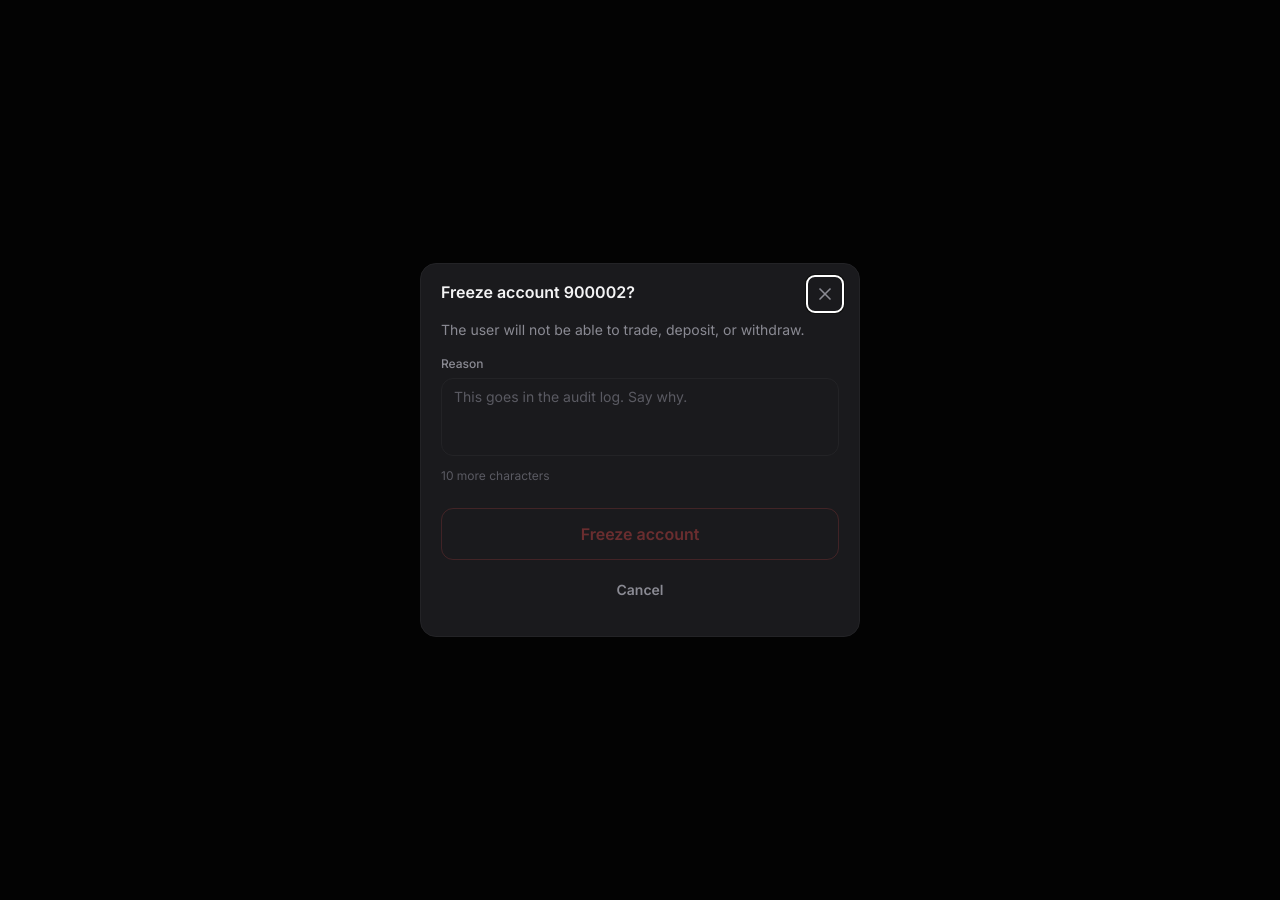
Test: ReasonDialog › blocks confirmation until a reason worth logging is written
Check: the button "Freeze account" is disabled, box [441, 508, 839, 560]
Type "too short" into the text box labelled "Reason". click: (640, 417)
box: [441, 378, 839, 456]
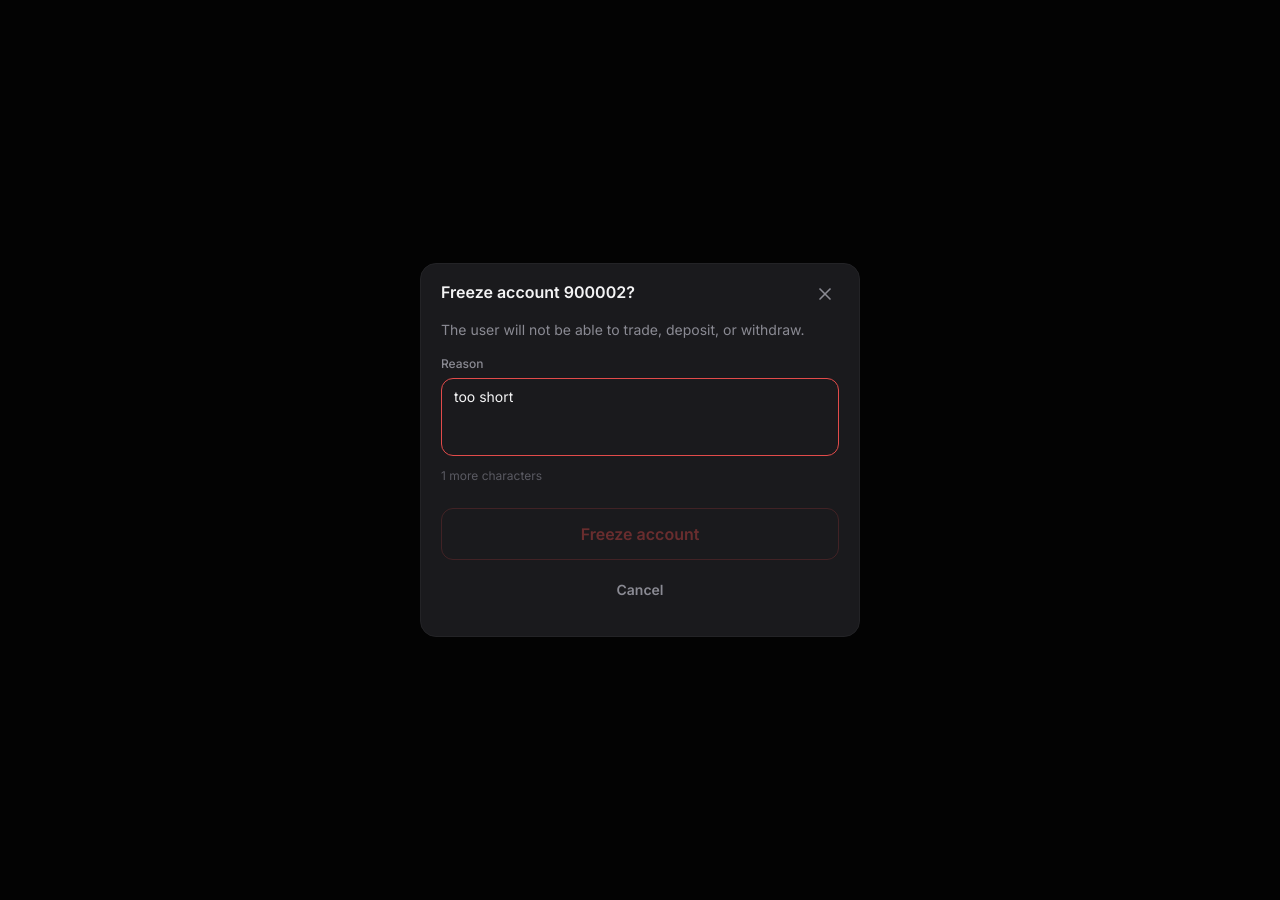
Check: the button "Freeze account" is disabled, box [441, 508, 839, 560]
Type " but now it is long enough" into the text box labelled "Reason". click: (640, 417)
box: [441, 378, 839, 456]
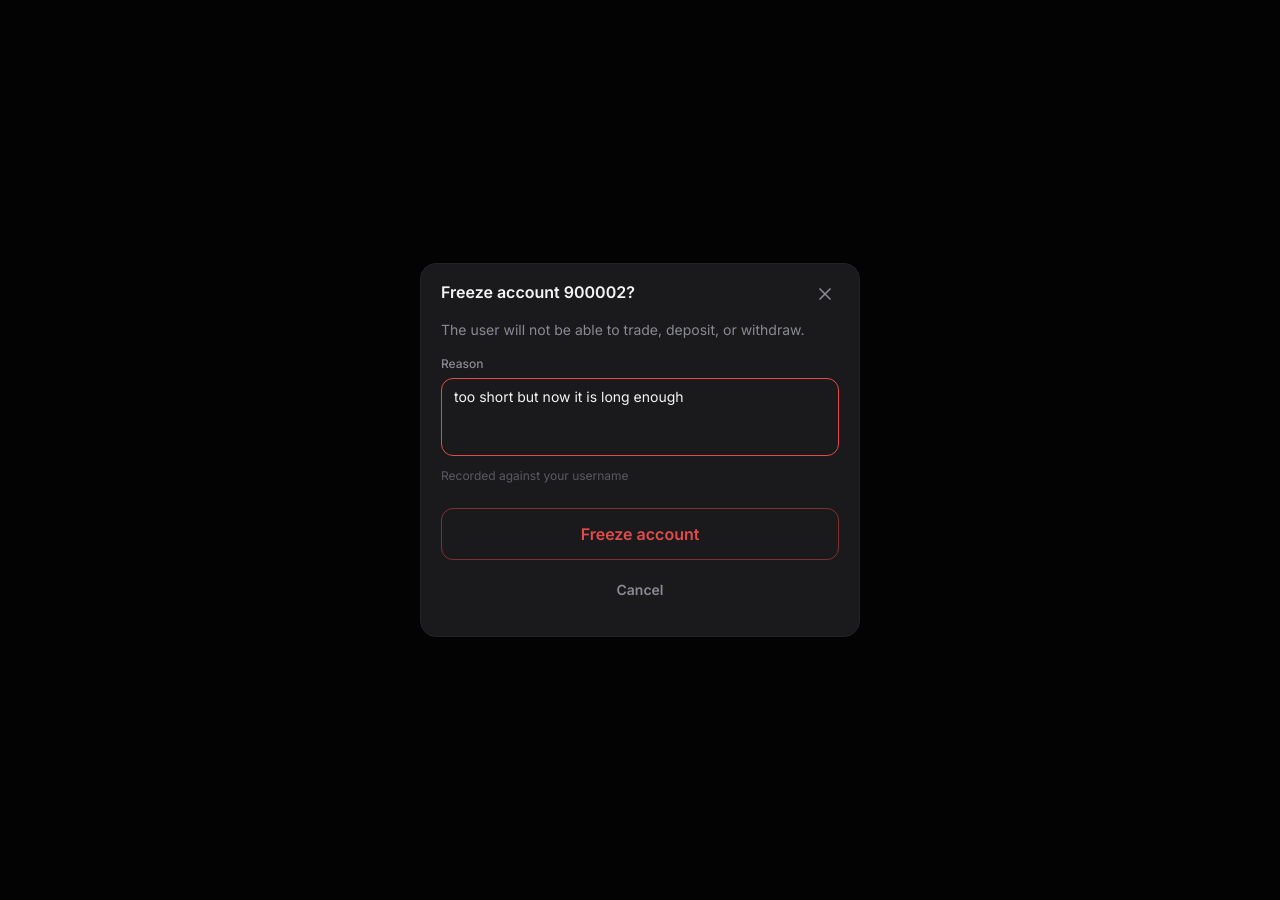
Check: the button "Freeze account" is enabled, box [441, 508, 839, 560]
